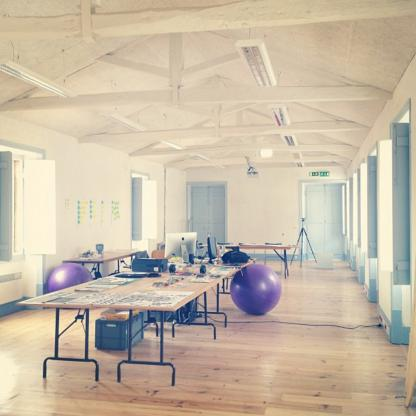Ball: (230, 264, 283, 315), (48, 262, 92, 294)
